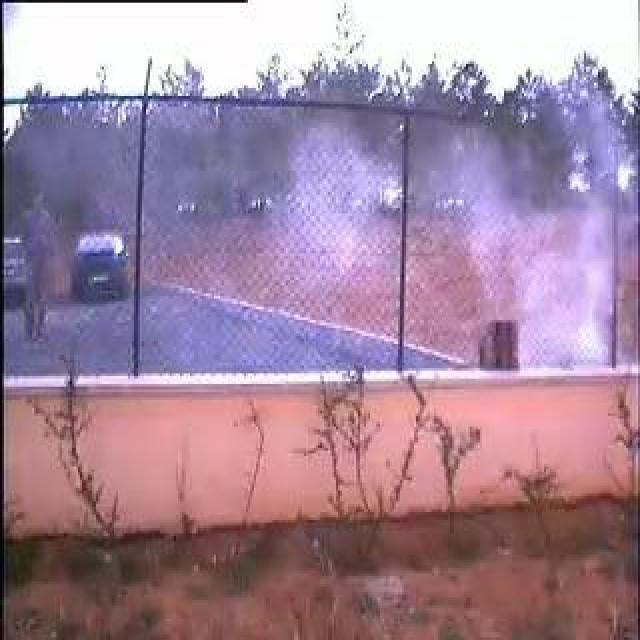Smoke: (304, 130, 614, 362)
